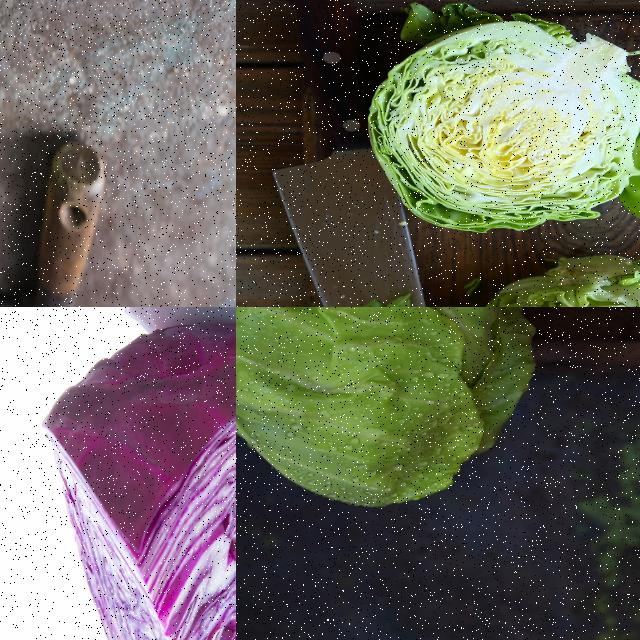cabbage: (363, 0, 639, 235), (236, 307, 546, 512), (41, 319, 235, 639)
